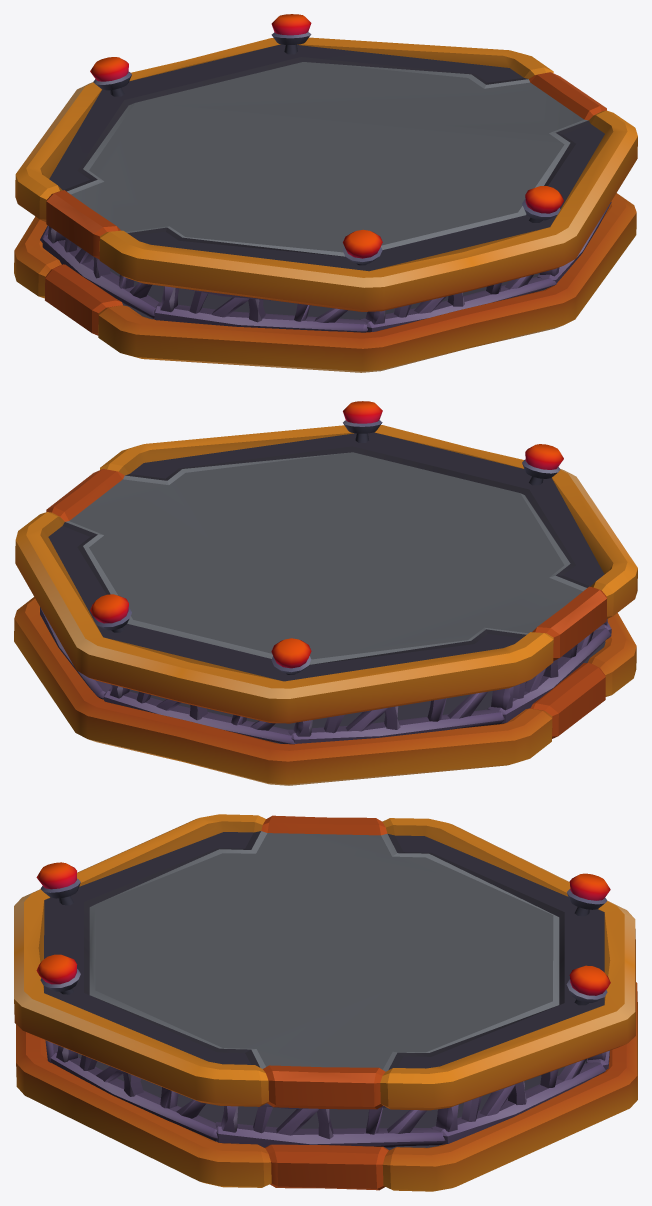
Rendered from SM_Platform_Tower_06.fbx.
3 views of the same model, one above another, from view 1: azimuth 30°, elevation 25°; view 2: azimuth 150°, elevation 25°; view 3: azimuth 270°, elevation 25° (orthographic). The views are drawn at different scales.
Parts seen in each view (by area): view 1: SM_Platform_Tower_06; view 2: SM_Platform_Tower_06; view 3: SM_Platform_Tower_06.
Boxes of the visible parts, bbox=[...] form: SM_Platform_Tower_06: bbox=[14, 14, 637, 372]; SM_Platform_Tower_06: bbox=[14, 401, 637, 785]; SM_Platform_Tower_06: bbox=[14, 814, 637, 1191].
Size of the model in its own units: 15.45 by 4.15 by 15.43.
